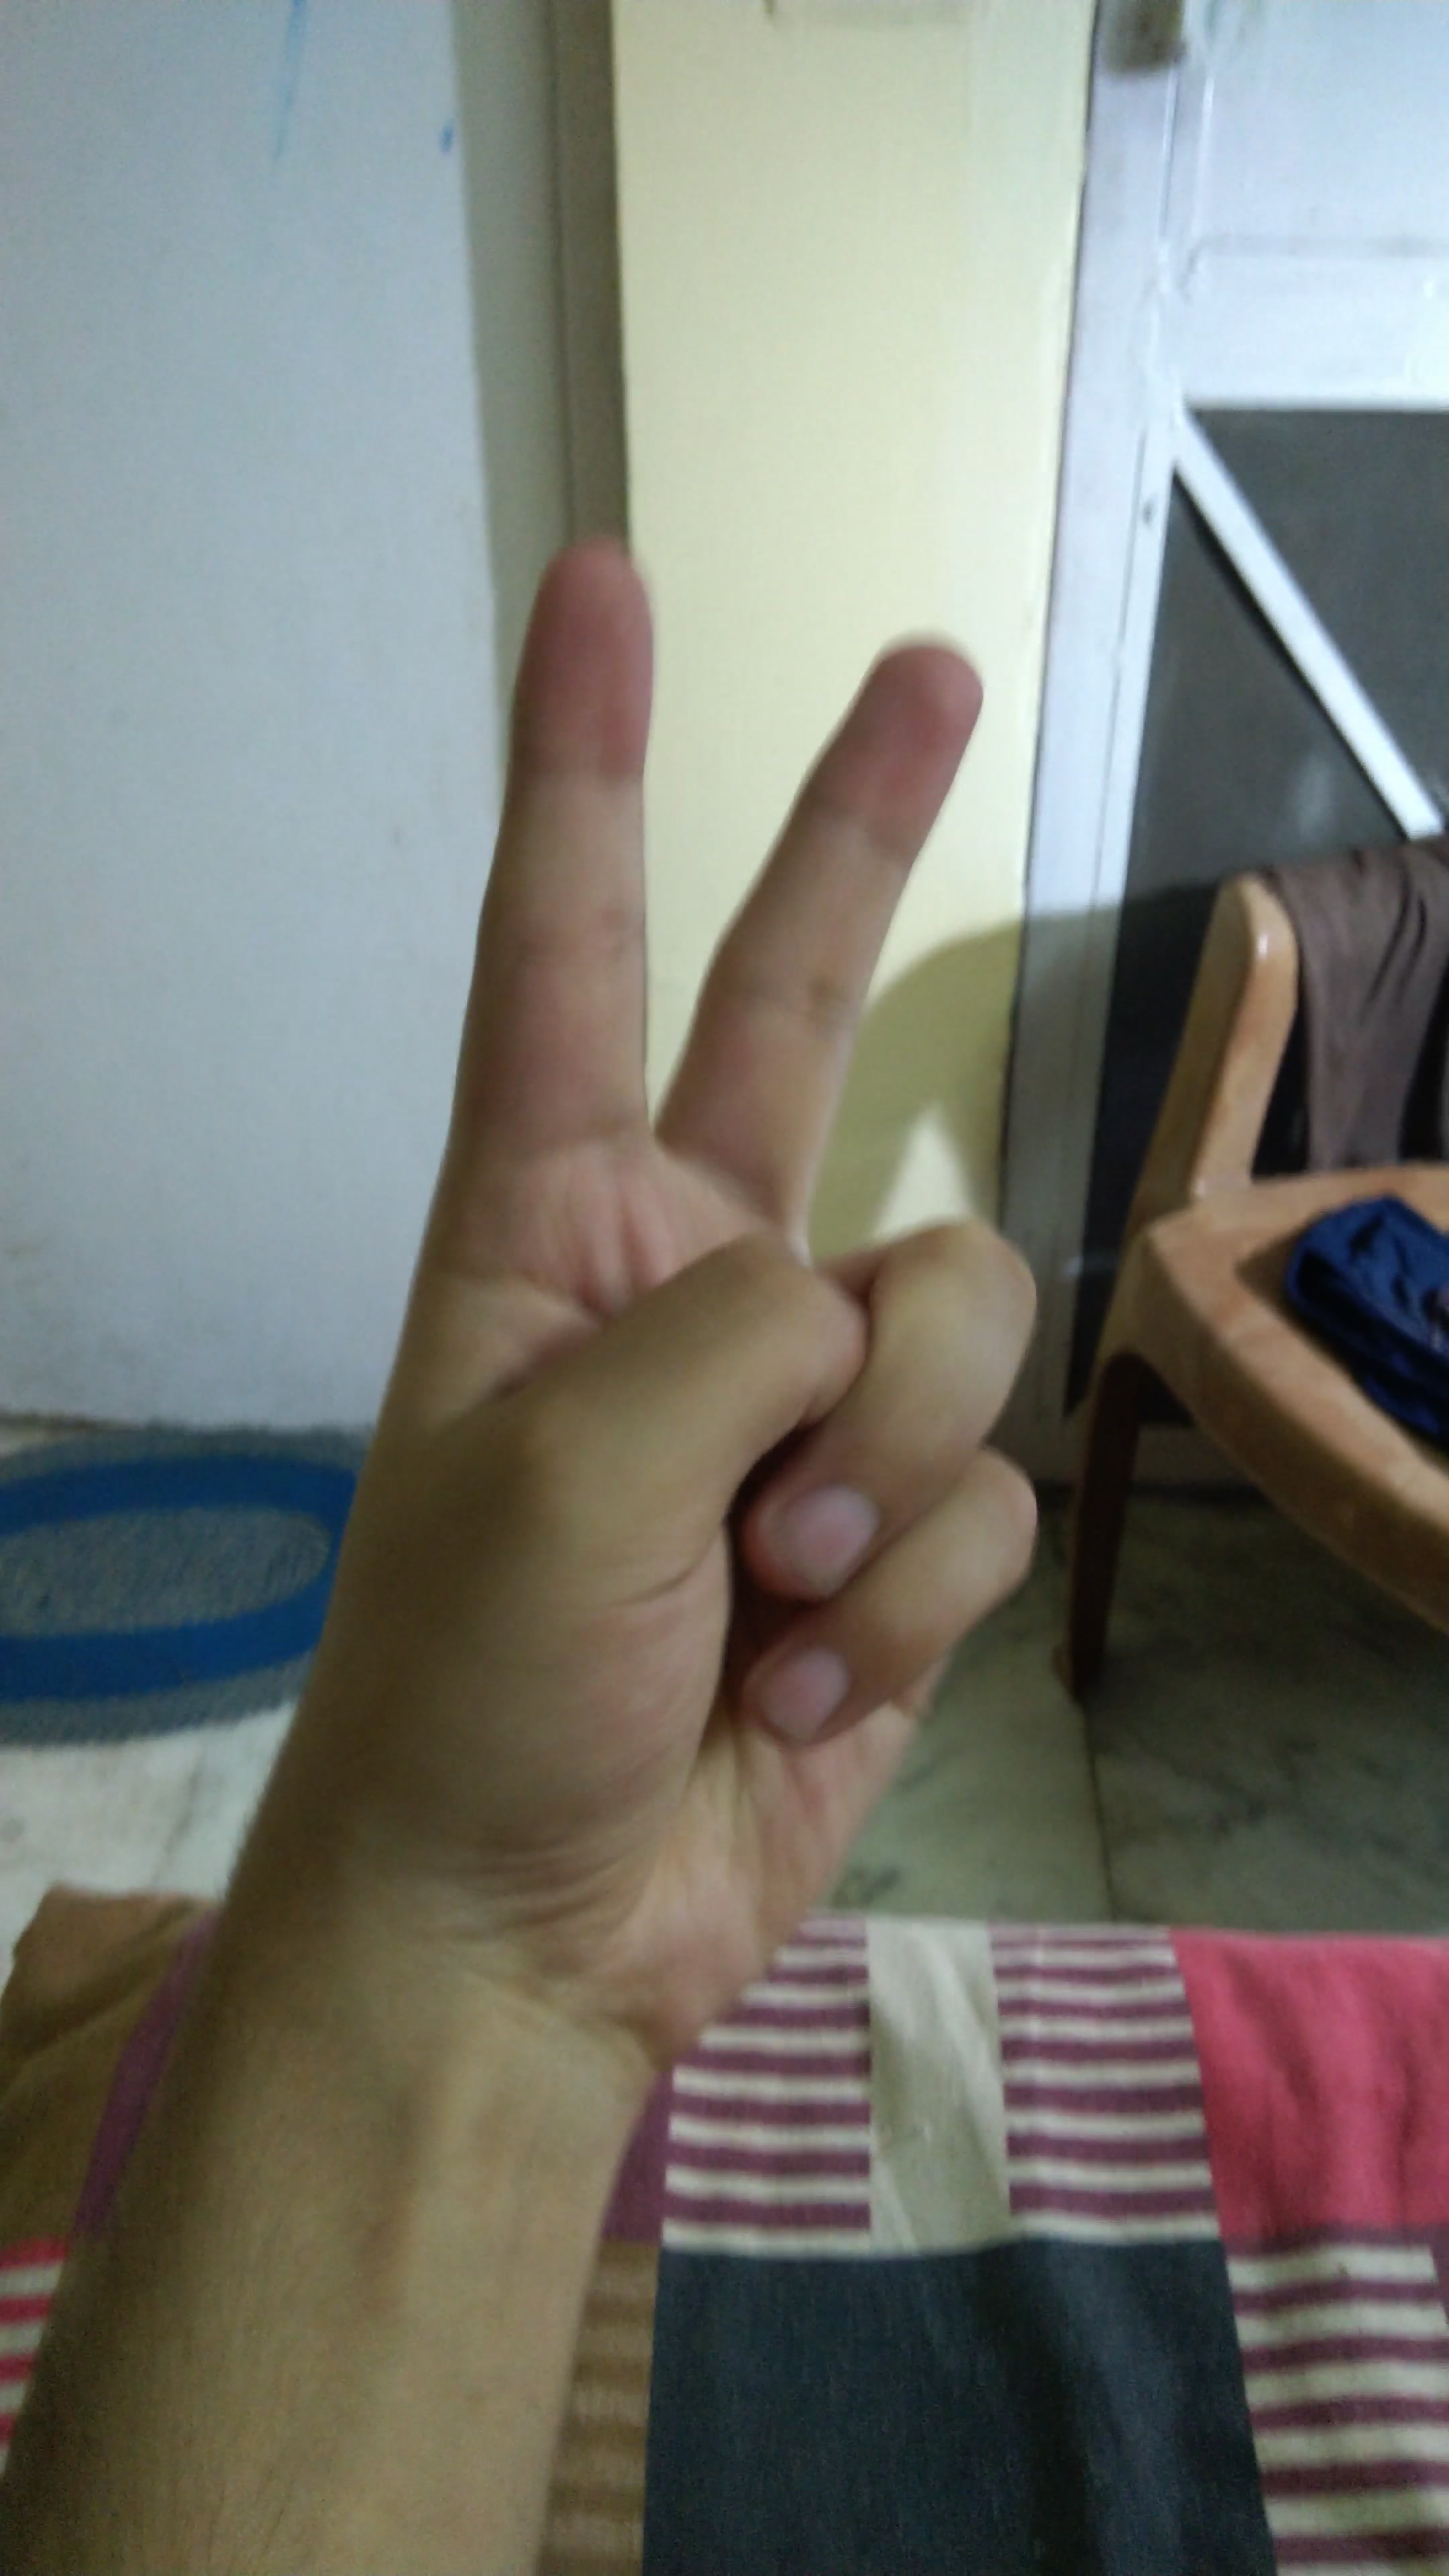hand: (156, 518, 1092, 2045)
